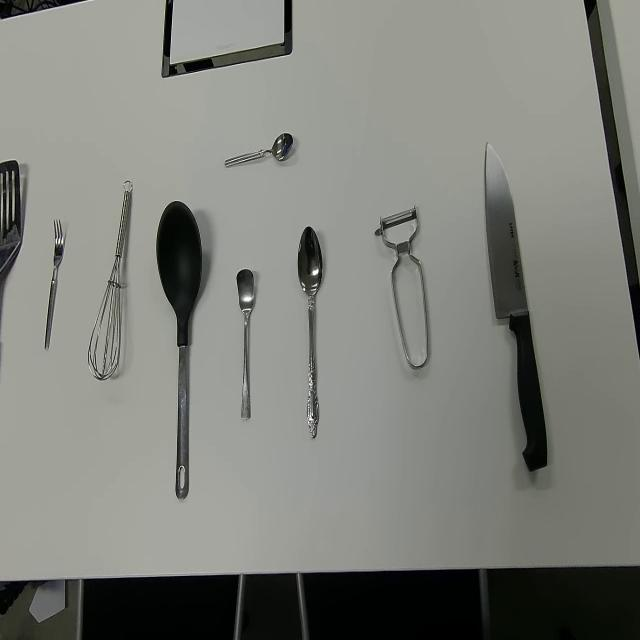Desert-Spoon: (299, 224, 325, 442)
Dinner-Fork: (44, 216, 64, 352)
Kitchen-Knife: (484, 141, 548, 474)
Peeler: (376, 202, 431, 372)
Serving-Spoon: (155, 197, 203, 503), (0, 157, 22, 440)
Tea-Spoon: (236, 266, 254, 422), (223, 130, 293, 170)
Whisk: (87, 180, 133, 381)
